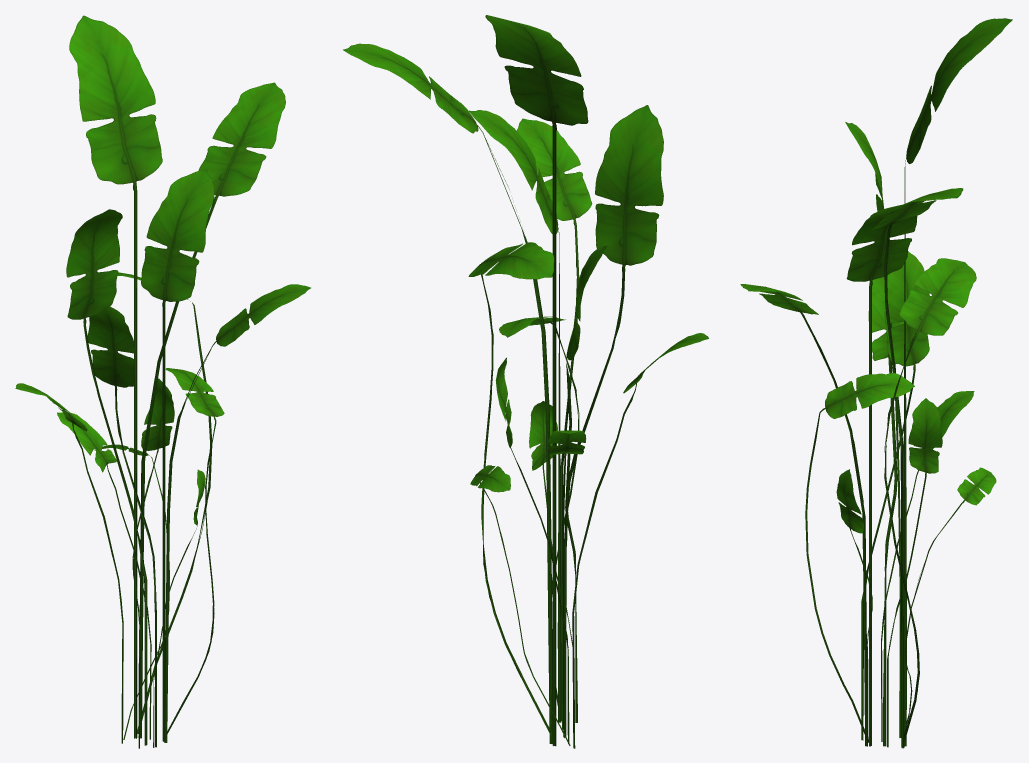
Rendered from long_plant.fbx.
The picture shows the model from 3 angles, left to right: view 1: azimuth 30°, elevation 25°; view 2: azimuth 150°, elevation 25°; view 3: azimuth 270°, elevation 25°; orthographic projection. The views are drawn at different scales.
Visible parts, largest first — view 1: leaf_2.002; view 2: leaf_2.002; view 3: leaf_2.002.
Boxes of the visible parts, x1=… form: leaf_2.002: x1=15, y1=15, x2=310, y2=748; leaf_2.002: x1=343, y1=15, x2=708, y2=748; leaf_2.002: x1=740, y1=18, x2=1012, y2=748.
Bounding box in the file's own units: 113 × 252 × 86.21.
